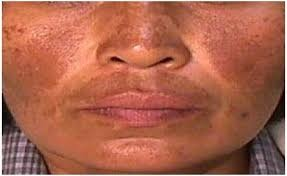Melasma: (3, 7, 287, 93)
